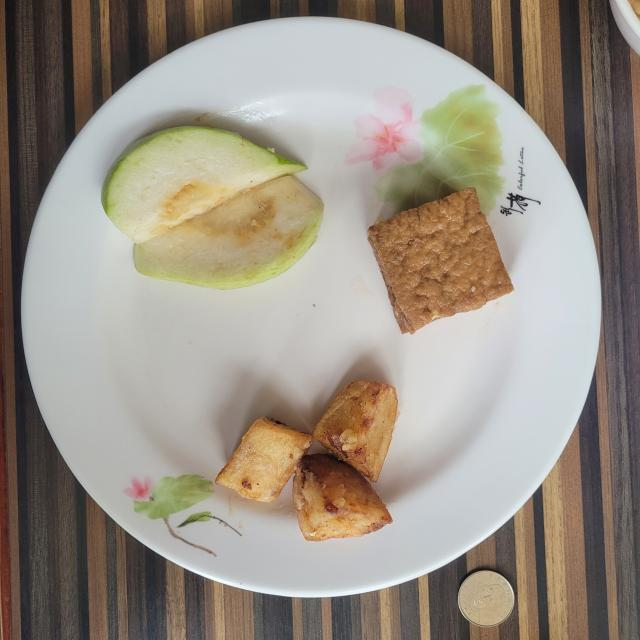coin: (458, 570, 514, 626)
egg tofu: (368, 188, 514, 334)
fried potato: (215, 380, 398, 541)
guava -sliced-: (101, 126, 324, 289)
